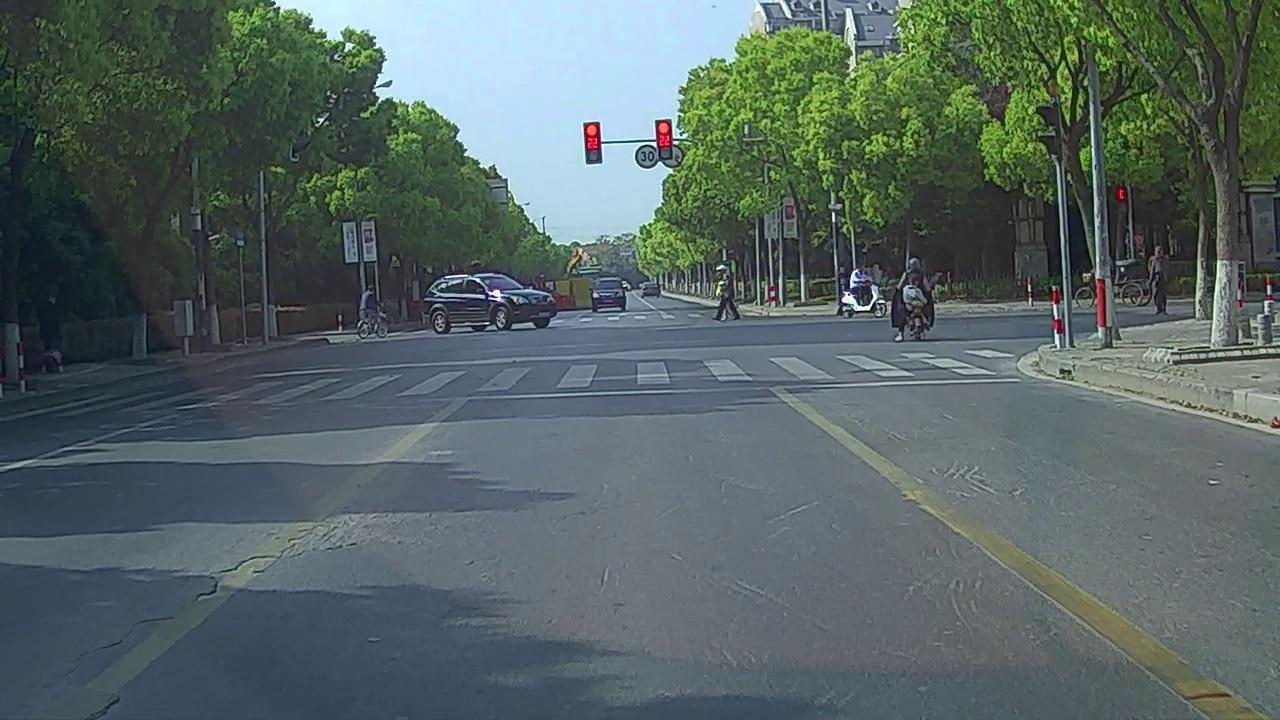traffic_light: (584, 122, 600, 162), (656, 120, 671, 159)
